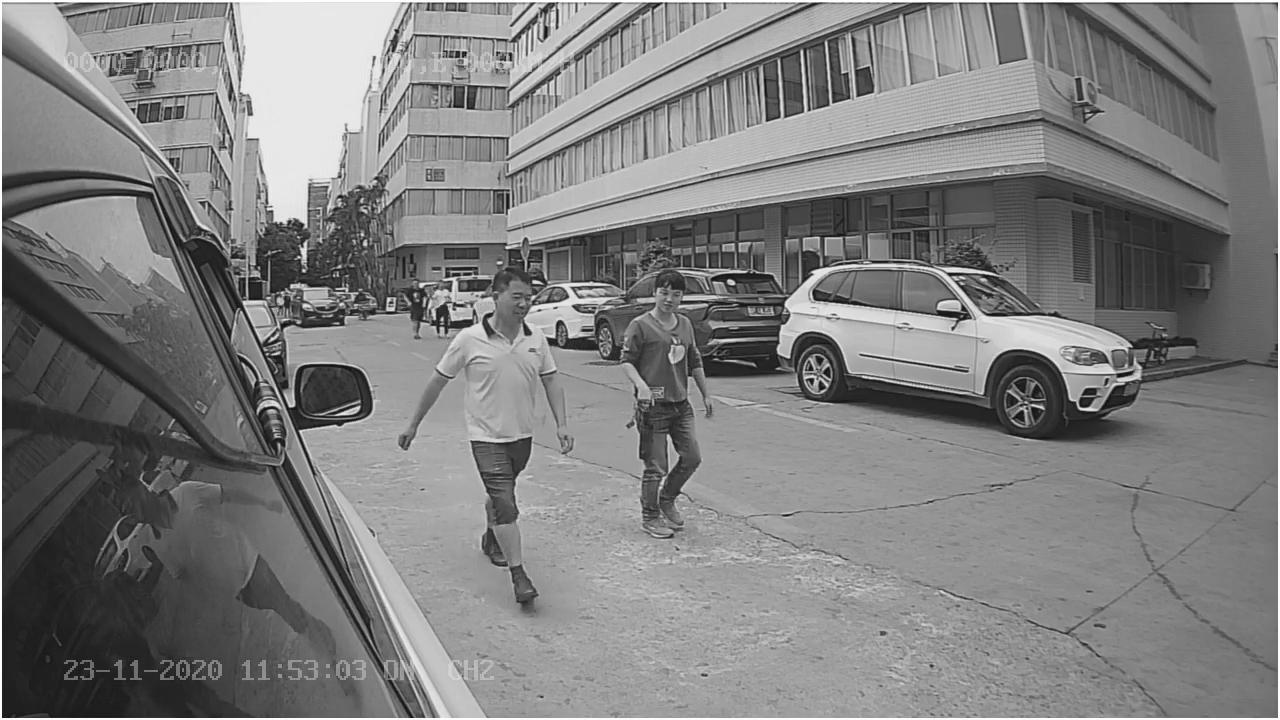person: (436, 264, 568, 599), (615, 265, 717, 538)
